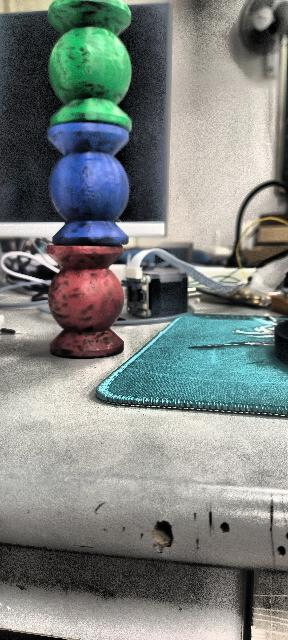blue: (44, 119, 134, 245)
green: (43, 0, 132, 130)
red: (48, 242, 126, 355)
